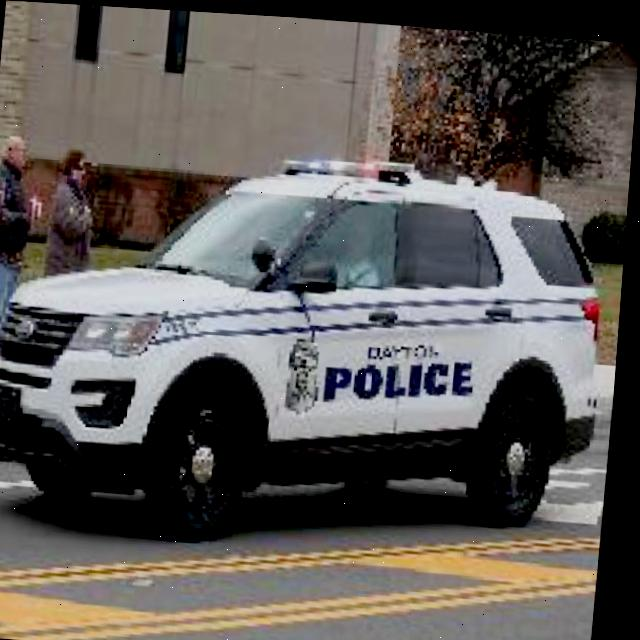emergency: (0, 123, 625, 563)
